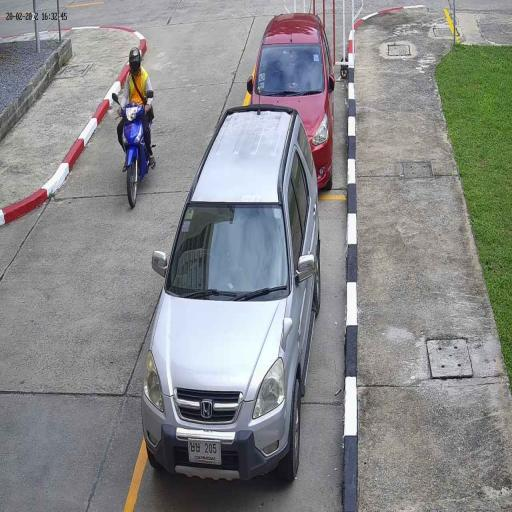car: (142, 101, 322, 490), (244, 12, 334, 186)
motorcycle: (120, 98, 149, 213)
